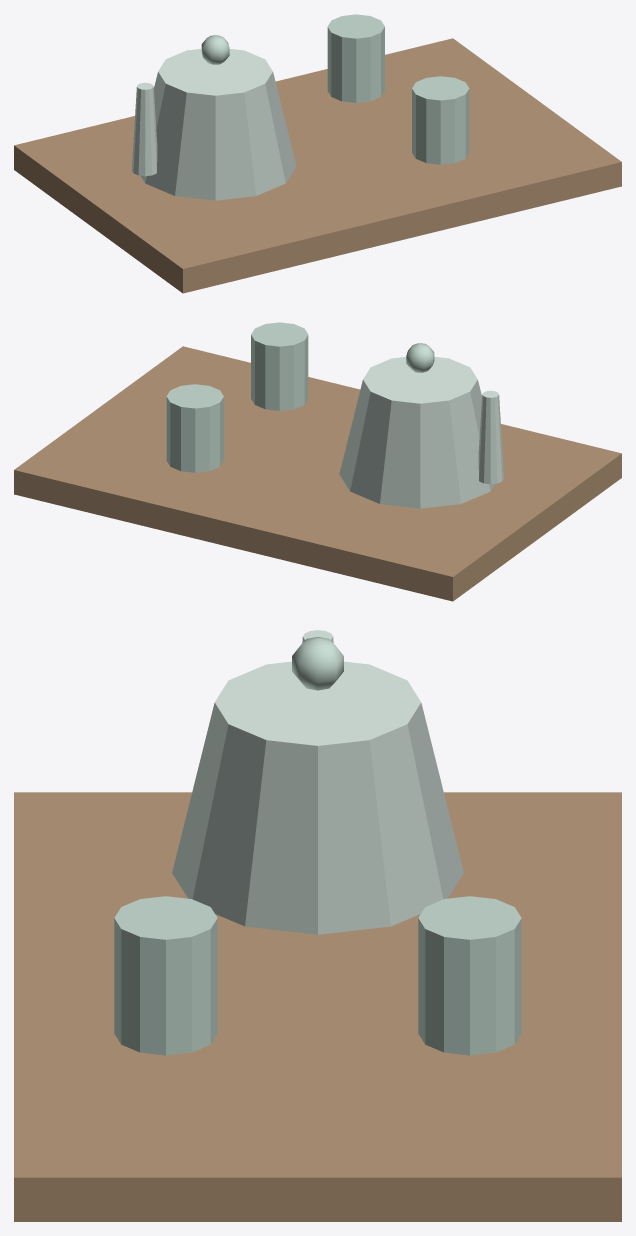
The model's file is teaSet.glb.
3 renders of one model, top to bottom at view 1: azimuth 30°, elevation 25°; view 2: azimuth 150°, elevation 25°; view 3: azimuth 270°, elevation 25°, orthographic. The views are drawn at different scales.
Parts seen in each view (by area): view 1: teaSet; view 2: teaSet; view 3: teaSet.
Boxes of the visible parts, x1,y1,x2,y2 form: teaSet: (14,14,621,293); teaSet: (14,322,621,601); teaSet: (14,630,621,1221).
Size of the model in its own units: 0.3 by 0.109 by 0.2.
